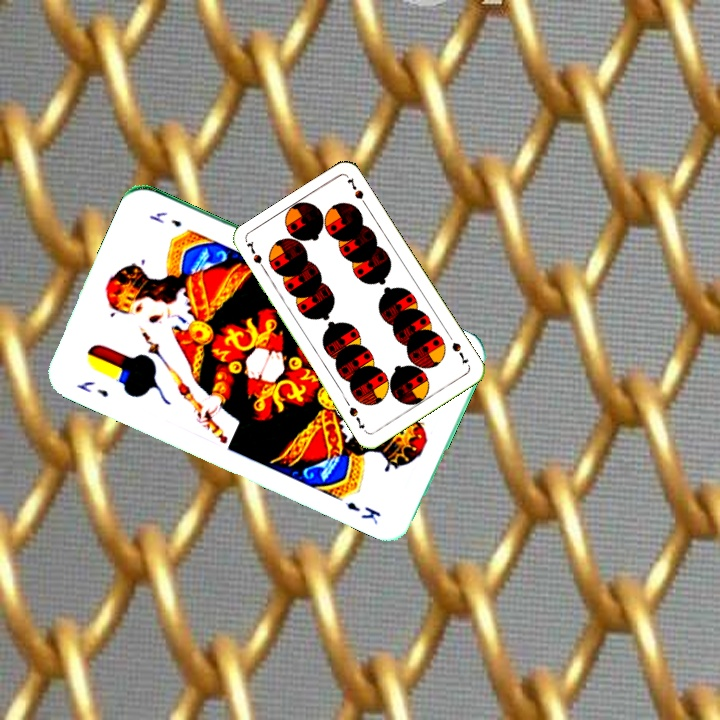EK: (73, 377, 111, 400)
S7: (242, 238, 269, 275), (448, 338, 471, 368)
